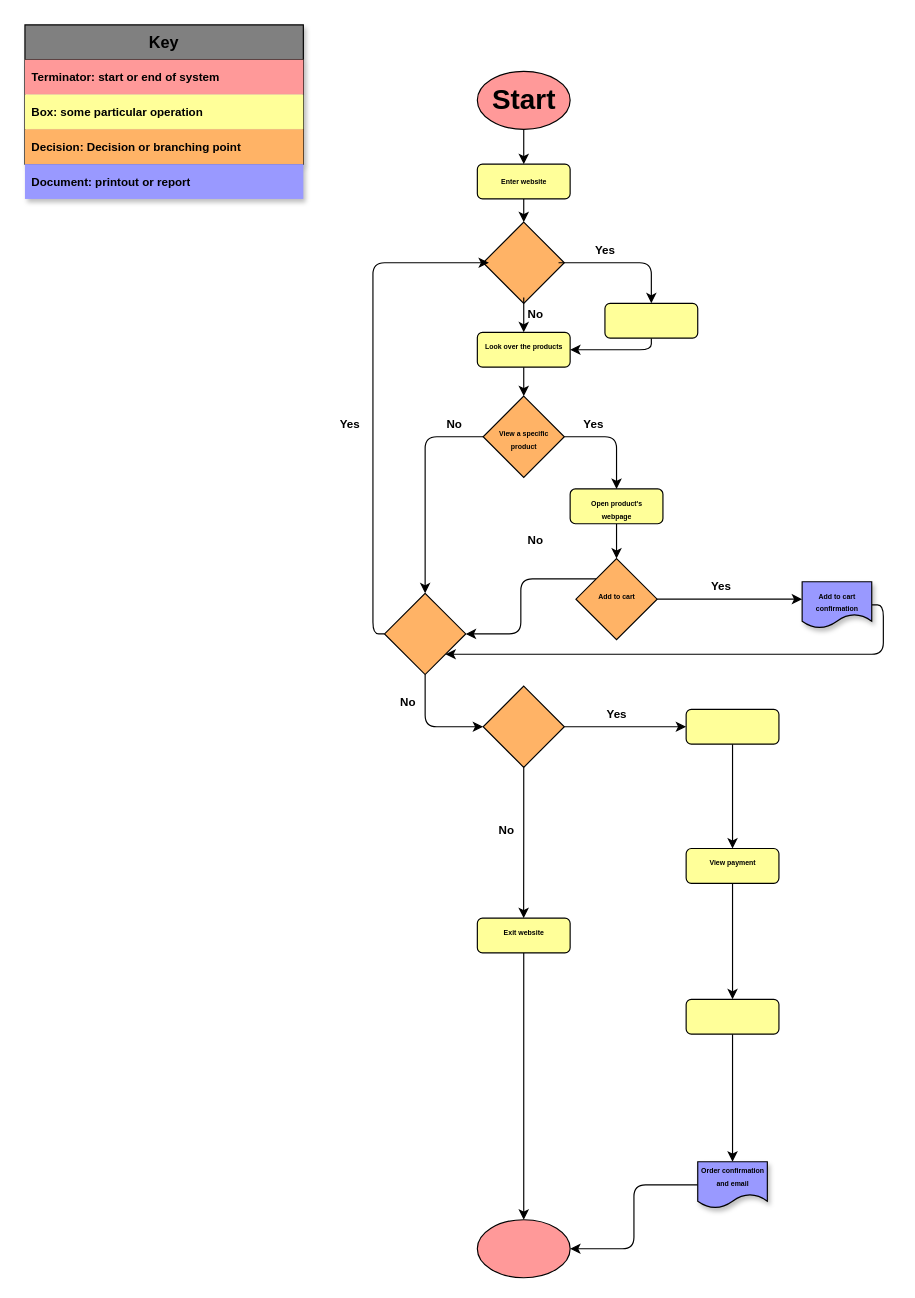
The diagram is 915 pixels wide and 1298 high, and some of its shapes have lost their labels. The shapes that lost their labels are listed below. From the top down, each one's centre as x and y in pixels, then its label:
(523,262): Search for a product
(651,320): Provide input to website of their search
(424,633): Continue shopping
(523,726): Checkout
(732,726): View cart
(732,1016): Give input of payment
(523,1248): End
